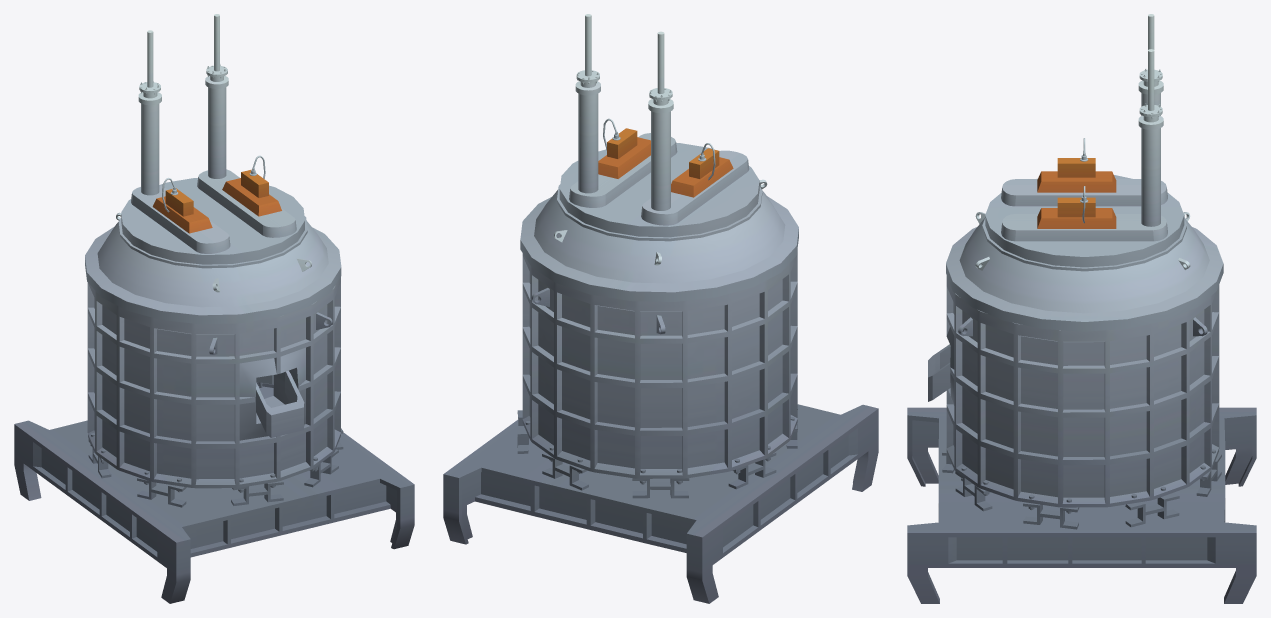
Rendered from Dianhulu.glb.
3 renders of one model, left to right at view 1: azimuth 30°, elevation 25°; view 2: azimuth 150°, elevation 25°; view 3: azimuth 270°, elevation 25°, orthographic. The views are drawn at different scales.
Parts seen in each view (by area): view 1: Dianhulu; view 2: Dianhulu; view 3: Dianhulu.
Boxes of the visible parts, box(x1,y1,x2,y2) form: Dianhulu: box(14, 14, 414, 603); Dianhulu: box(443, 14, 878, 603); Dianhulu: box(907, 14, 1256, 603).
Size of the model in its own units: 10.93 by 20.72 by 12.88.
1 material, 1 textured.
